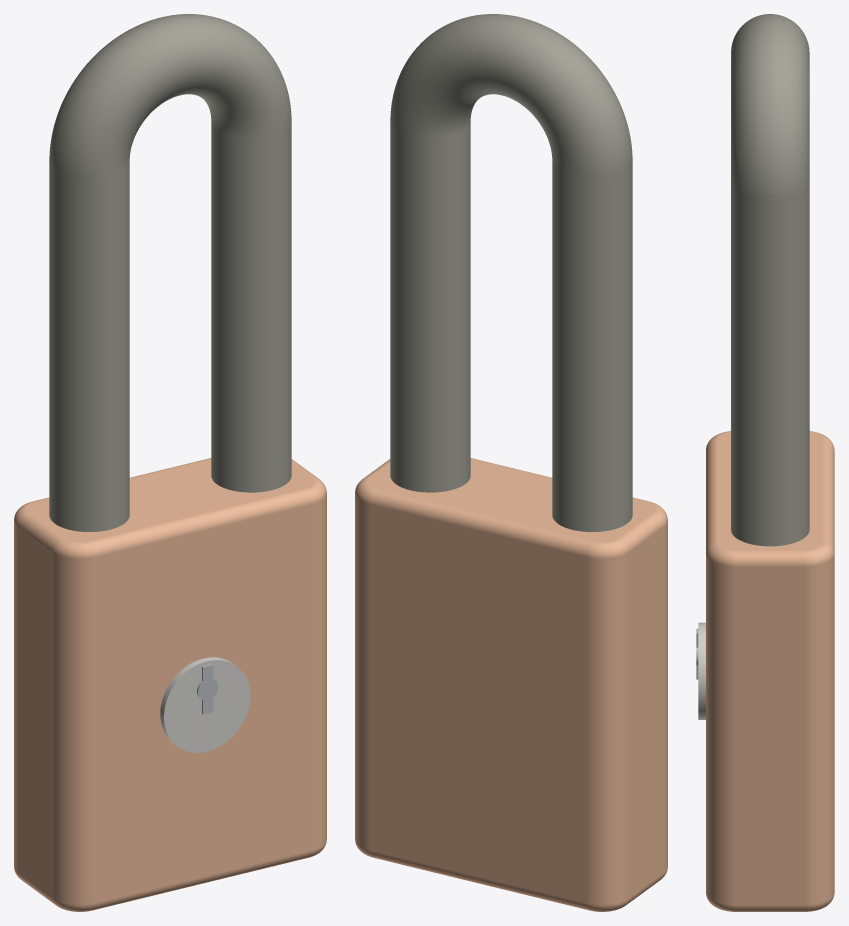
File: Equipment_Lock__0000.glb
The picture shows the model from 3 angles, left to right: view 1: azimuth 30°, elevation 25°; view 2: azimuth 150°, elevation 25°; view 3: azimuth 270°, elevation 25°; orthographic projection. The views are drawn at different scales.
Parts seen in each view (by area): view 1: body::body_shell, shackle::shackle_bar, body::keyway_disc, body::keyway_slot; view 2: body::body_shell, shackle::shackle_bar; view 3: body::body_shell, shackle::shackle_bar, body::keyway_disc.
Boxes of the visible parts, <box> form: body::body_shell: <box>14,458,326,911</box>; shackle::shackle_bar: <box>49,14,291,531</box>; body::keyway_disc: <box>160,657,250,752</box>; body::keyway_slot: <box>197,664,218,714</box>; body::body_shell: <box>355,458,667,911</box>; shackle::shackle_bar: <box>390,14,632,531</box>; body::body_shell: <box>706,431,834,911</box>; shackle::shackle_bar: <box>731,14,809,546</box>; body::keyway_disc: <box>698,622,705,719</box>.
Bounding box in the file's own units: 0.045 × 0.1345 × 0.0204.
Materials: 4 (2 with a texture image).
